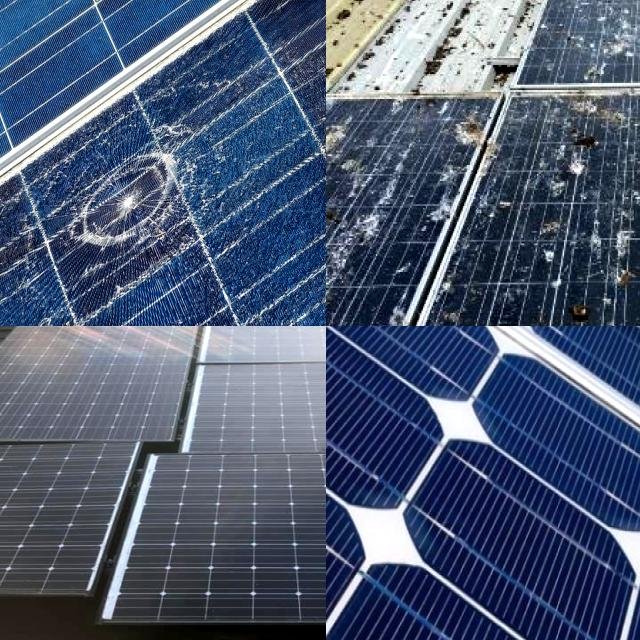bird: (532, 118, 612, 186), (456, 101, 506, 170), (326, 191, 377, 257), (556, 265, 595, 326)
crack: (326, 326, 640, 640)
dust: (139, 470, 326, 601), (0, 484, 87, 582)
